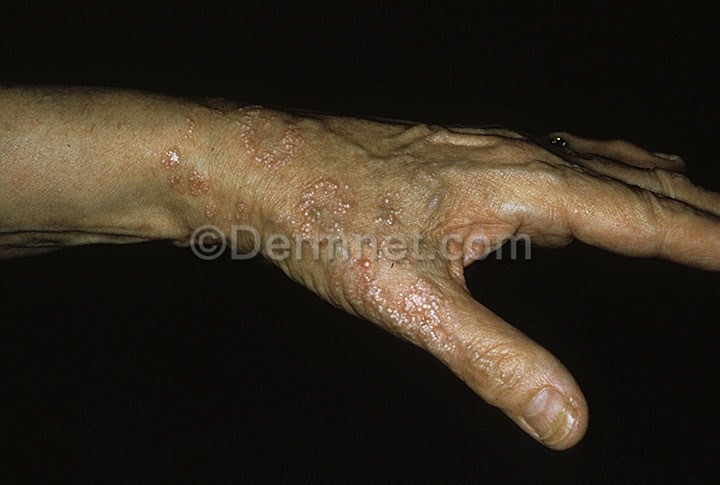Melasma: (155, 103, 420, 227), (318, 260, 473, 349)
